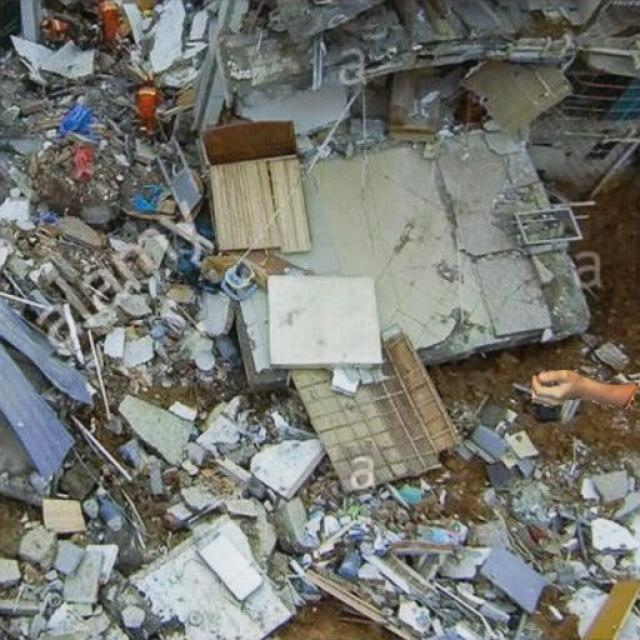Person in Rubble: (532, 370, 638, 408)
